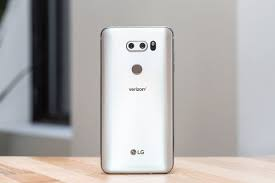lg: (97, 24, 176, 175)
